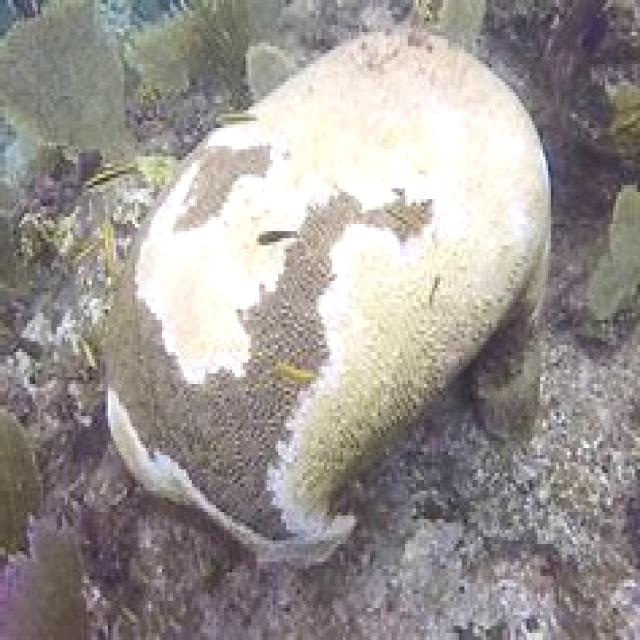Coral: (101, 26, 551, 568)
